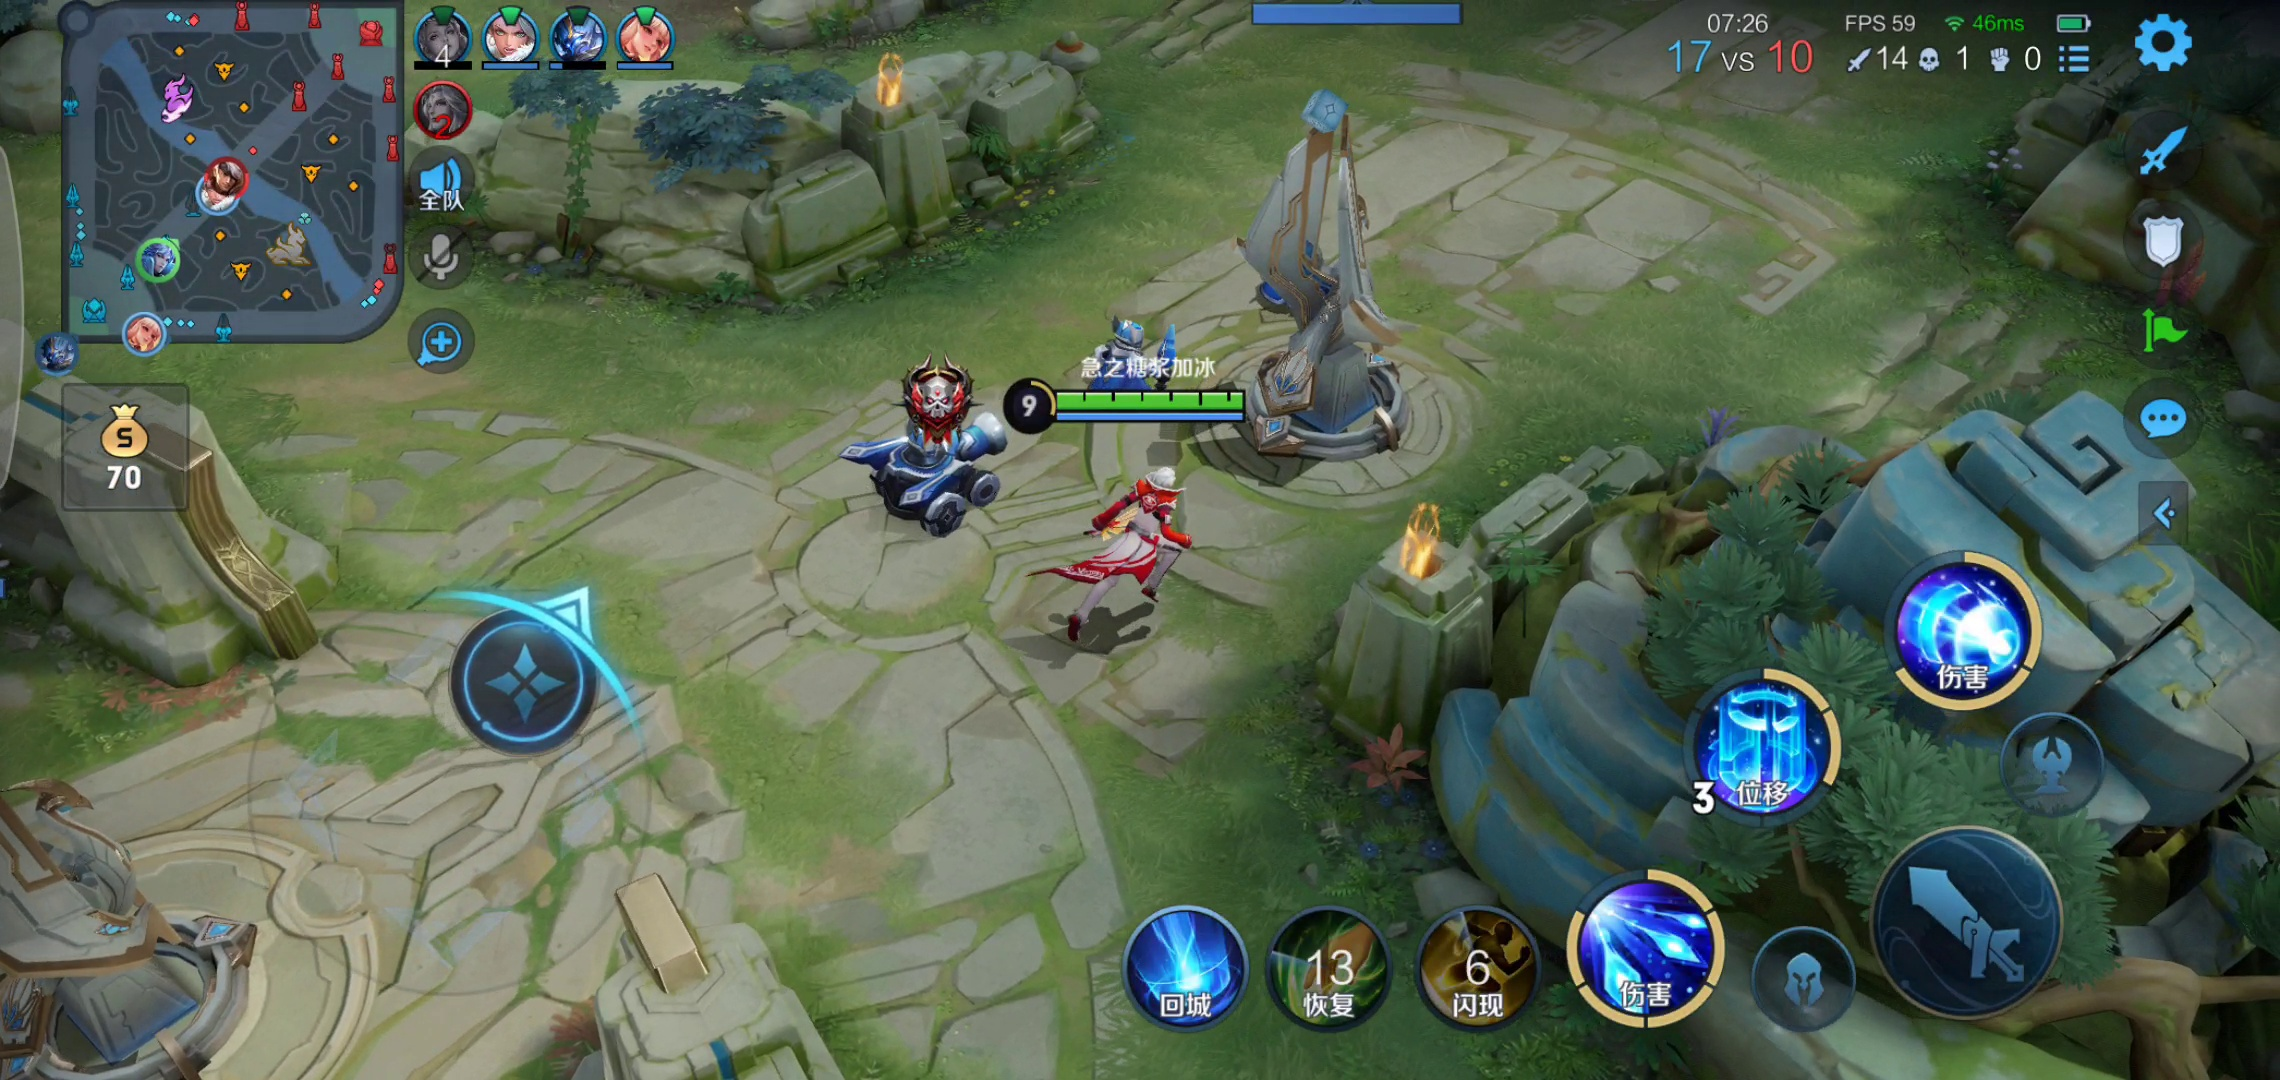hero: (1038, 451, 1201, 626)
soldier: (840, 400, 1019, 532), (1080, 308, 1208, 423)
tower: (1, 779, 263, 1060), (1233, 89, 1418, 458)
